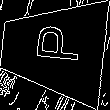P_W: (25, 29, 81, 71)
